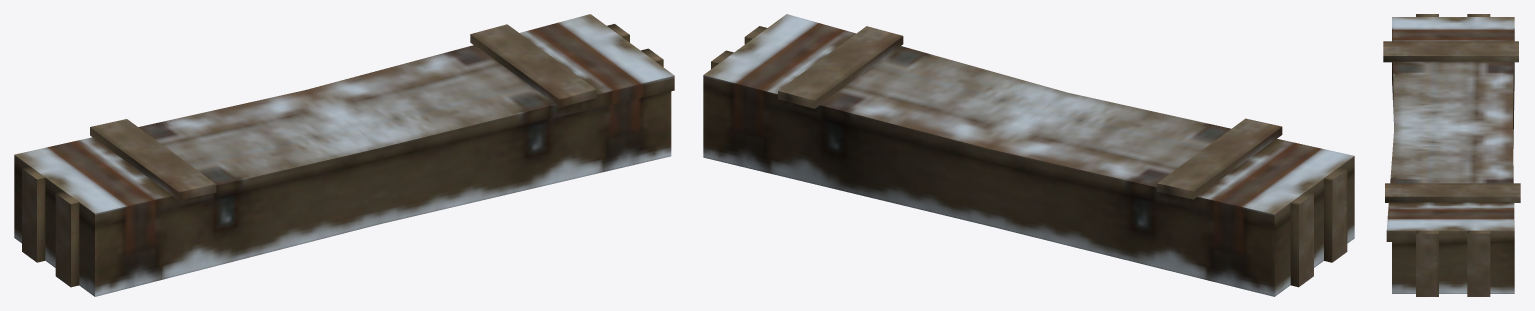
File: yw_wanglingzhita_muxiang.FBX
3 renders of one model, left to right at view 1: azimuth 30°, elevation 25°; view 2: azimuth 150°, elevation 25°; view 3: azimuth 270°, elevation 25°, orthographic. The views are drawn at different scales.
Visible parts, largest first — view 1: yw_wanglingzhita_muxiang; view 2: yw_wanglingzhita_muxiang; view 3: yw_wanglingzhita_muxiang.
Boxes of the visible parts, bbox=[...] form: yw_wanglingzhita_muxiang: bbox=[14, 14, 674, 296]; yw_wanglingzhita_muxiang: bbox=[703, 14, 1354, 296]; yw_wanglingzhita_muxiang: bbox=[1383, 14, 1520, 296].
Size of the model in its own units: 788 by 114 by 208.
